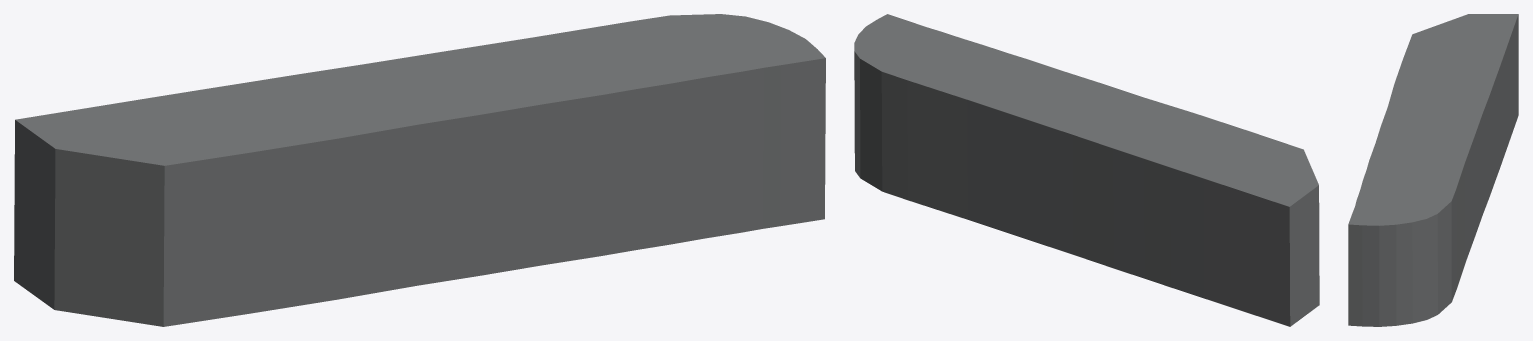
The picture shows the model from 3 angles, left to right: view 1: azimuth 30°, elevation 25°; view 2: azimuth 150°, elevation 25°; view 3: azimuth 270°, elevation 25°; orthographic projection. The views are drawn at different scales.
Visible parts, largest first — view 1: 8_2; view 2: 8_2; view 3: 8_2.
Part boxes in pixels (x1,y1,x2,y2): 8_2: (14, 14, 825, 326); 8_2: (854, 14, 1319, 326); 8_2: (1348, 14, 1518, 326).
Bounding box in the file's own units: 0.0503 × 0.0117 × 0.0173.
1 material, 1 textured.
